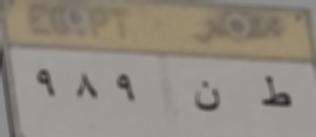8: (69, 68, 97, 110)
9: (34, 62, 59, 102), (117, 70, 138, 106)
Taa: (254, 72, 292, 118)
noon: (190, 79, 224, 118)
